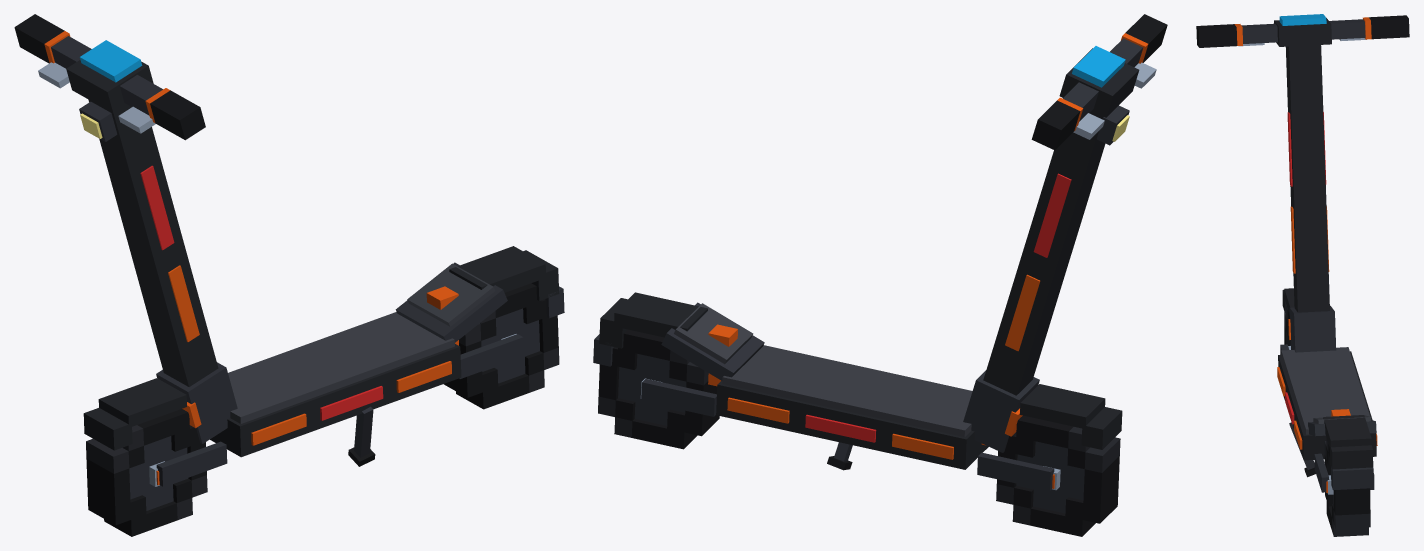
The model's file is roller_kicsi.glb.
3 renders of one model, left to right at view 1: azimuth 30°, elevation 25°; view 2: azimuth 150°, elevation 25°; view 3: azimuth 270°, elevation 25°, orthographic. The views are drawn at different scales.
Visible parts, largest first — view 1: KuKirin_G2_Scooter; view 2: KuKirin_G2_Scooter; view 3: KuKirin_G2_Scooter.
Boxes of the visible parts, box(x1,y1,x2,y2) form: KuKirin_G2_Scooter: box(14, 14, 564, 536); KuKirin_G2_Scooter: box(593, 14, 1167, 536); KuKirin_G2_Scooter: box(1196, 14, 1409, 536).
Size of the model in its own units: 1.22 by 1.1 by 0.58.
